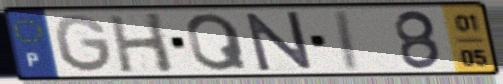8: (392, 8, 444, 72)
G: (51, 13, 116, 76)
H: (105, 11, 178, 75)
I: (334, 8, 365, 74)
N: (242, 9, 316, 74)
Q: (183, 11, 252, 74)
